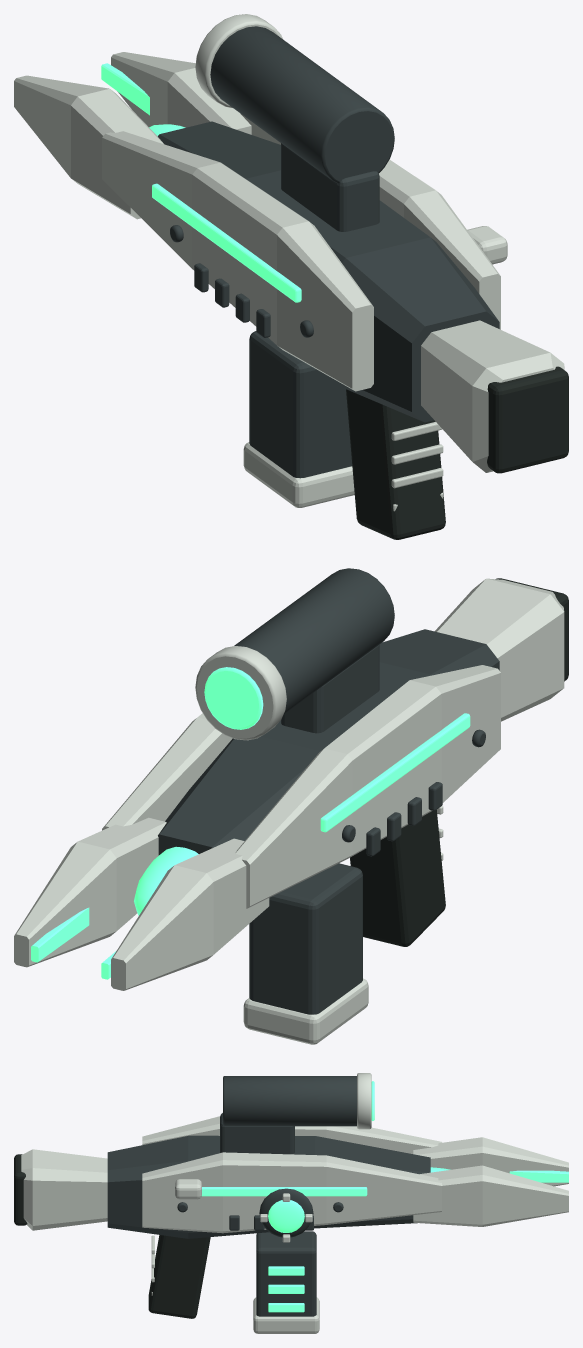
Rendered from Reference_plasma_br.glb.
The picture shows the model from 3 angles, top to bottom: view 1: azimuth 30°, elevation 25°; view 2: azimuth 150°, elevation 25°; view 3: azimuth 270°, elevation 25°; orthographic projection. The views are drawn at different scales.
Parts seen in each view (by area): view 1: Body, ReloadMagazine_EnergyCell, ChargingHandle_Reference; view 2: Body, ReloadMagazine_EnergyCell; view 3: Body, ReloadMagazine_EnergyCell, ChargingHandle_Reference.
Part boxes in pixels (x1,y1,x2,y2): Body: (14, 14, 568, 539); ReloadMagazine_EnergyCell: (243, 331, 354, 507); ChargingHandle_Reference: (467, 226, 507, 264); Body: (14, 568, 568, 990); ReloadMagazine_EnergyCell: (243, 863, 368, 1044); Body: (14, 1073, 568, 1318); ReloadMagazine_EnergyCell: (253, 1231, 319, 1333); ChargingHandle_Reference: (175, 1179, 201, 1199).
Size of the model in its own units: 0.2405 by 0.4765 by 0.9625.
